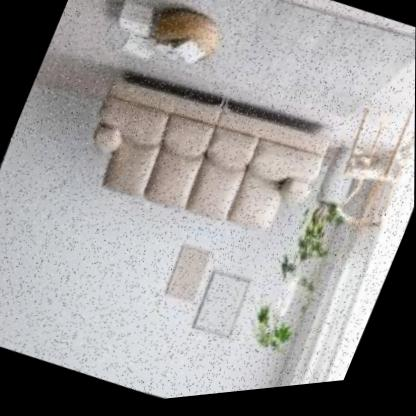Sofa: (43, 23, 353, 294)
